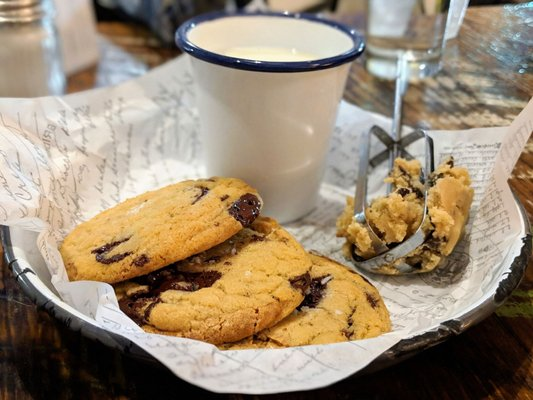pizza: (174, 12, 367, 224), (364, 0, 465, 82)
soup: (58, 177, 391, 348)
